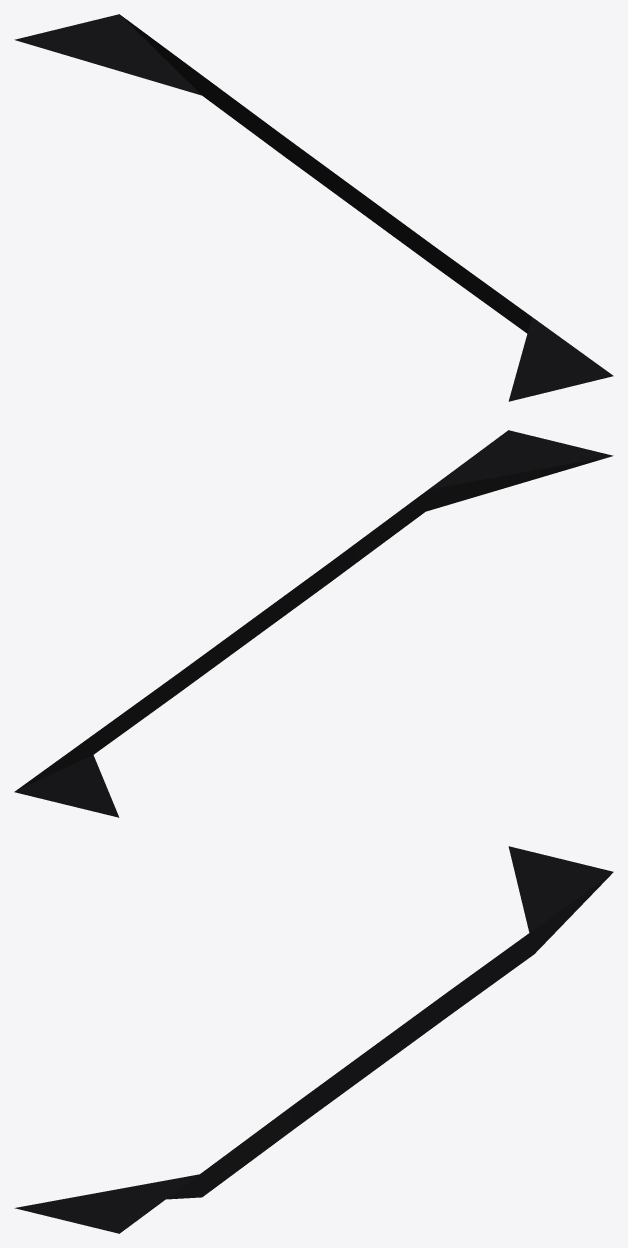
File: skirt_R_skirt.glb
3 renders of one model, top to bottom at view 1: azimuth 30°, elevation 25°; view 2: azimuth 150°, elevation 25°; view 3: azimuth 330°, elevation 25°, orthographic.
Parts seen in each view (by area): view 1: skirt_R_skirt; view 2: skirt_R_skirt; view 3: skirt_R_skirt.
Boxes of the visible parts, bbox=[...] form: skirt_R_skirt: bbox=[14, 14, 613, 401]; skirt_R_skirt: bbox=[14, 430, 613, 817]; skirt_R_skirt: bbox=[14, 846, 613, 1233].
Size of the model in its own units: 0.2234 by 0.045 by 1.79.
Materials: 1 (1 with a texture image).
